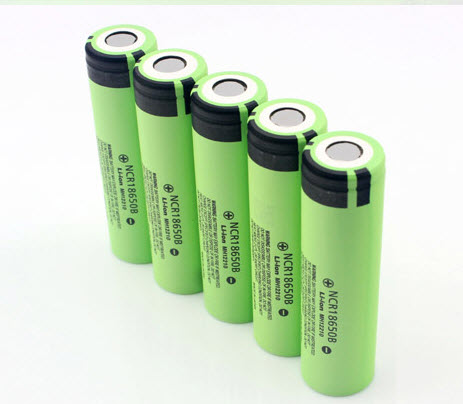Battery: (300, 129, 388, 399), (187, 63, 269, 327), (247, 96, 329, 359), (133, 46, 209, 296), (84, 23, 156, 270)
